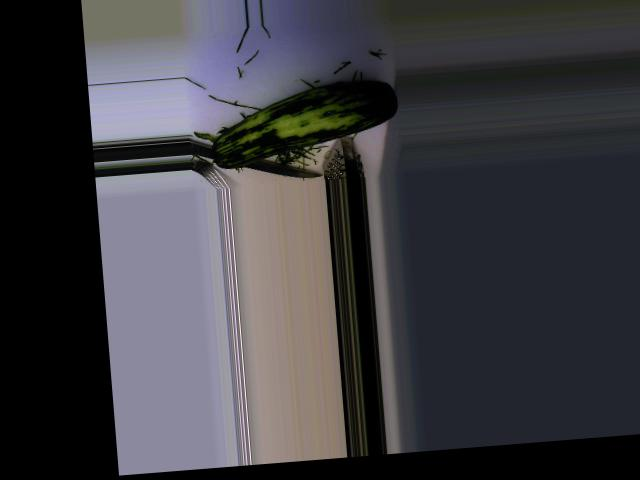cucumber: (206, 77, 401, 170)
